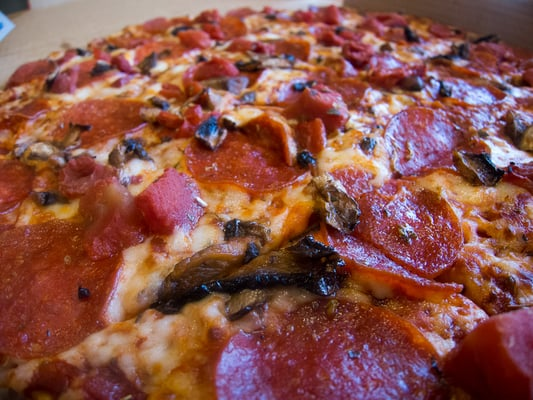sandwich: (0, 1, 532, 399)
